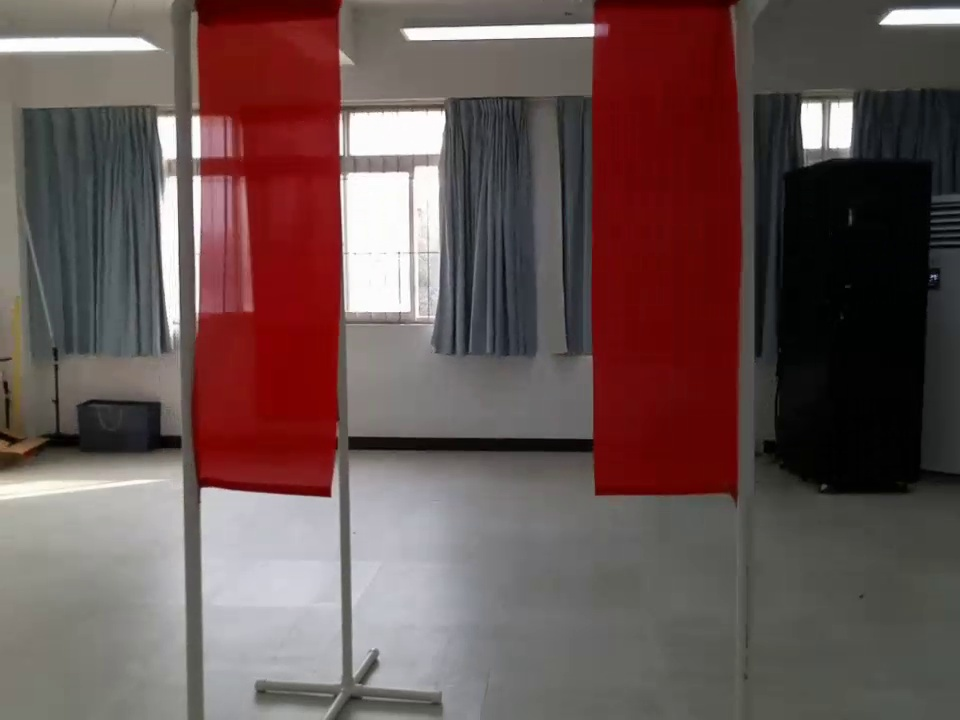qi: (165, 1, 355, 501), (593, 1, 752, 508)
